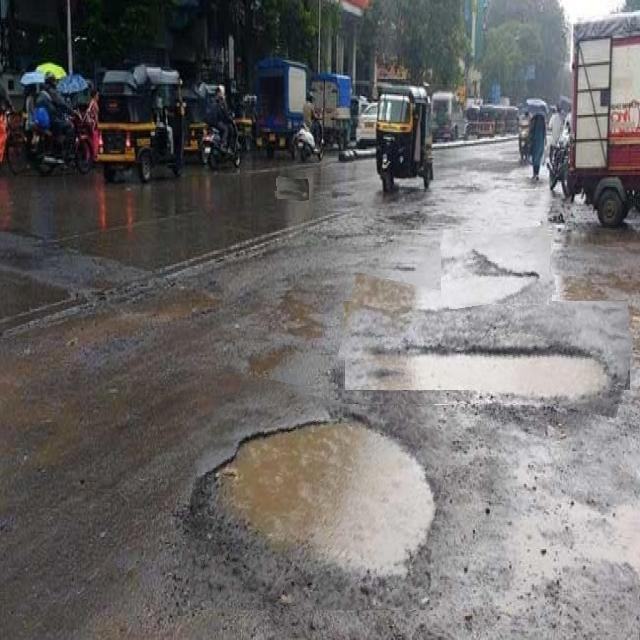Pothole: (190, 381, 448, 610), (340, 287, 631, 404), (441, 228, 554, 306), (275, 177, 309, 200)
